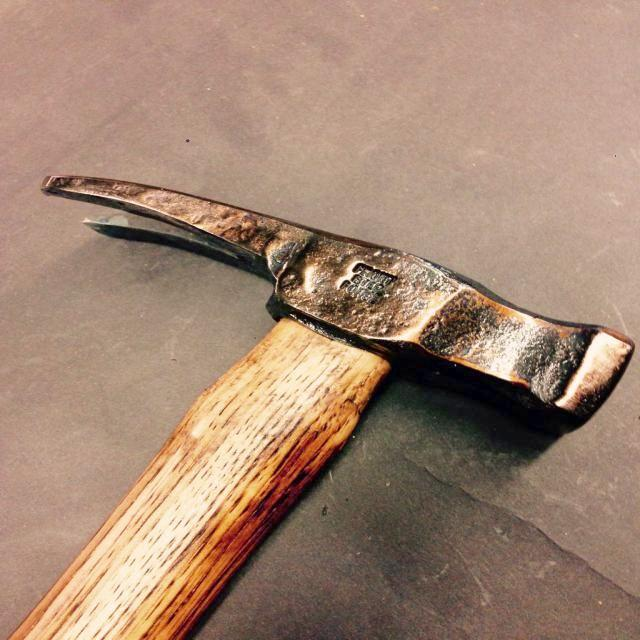hammer: (452, 154, 640, 640)
